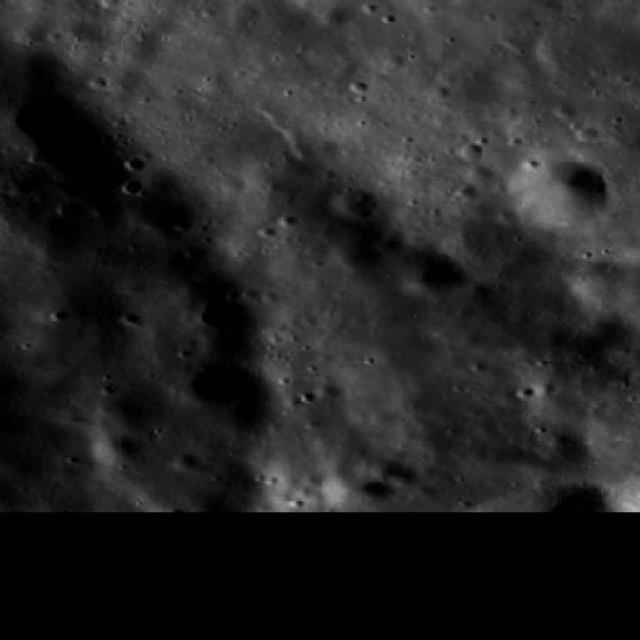crater: (505, 156, 610, 232), (567, 257, 640, 308), (398, 247, 468, 298), (324, 464, 393, 513), (95, 387, 156, 430), (104, 30, 160, 70), (537, 428, 591, 467), (332, 237, 382, 274), (58, 19, 106, 53), (93, 434, 139, 466), (334, 188, 376, 218), (321, 6, 354, 28), (382, 466, 415, 488), (534, 0, 563, 18), (467, 165, 493, 184), (222, 174, 248, 193), (173, 452, 199, 470), (370, 460, 396, 478), (381, 232, 404, 250), (460, 144, 482, 161), (59, 200, 81, 216), (383, 54, 405, 70), (575, 124, 597, 140), (317, 386, 340, 400)
